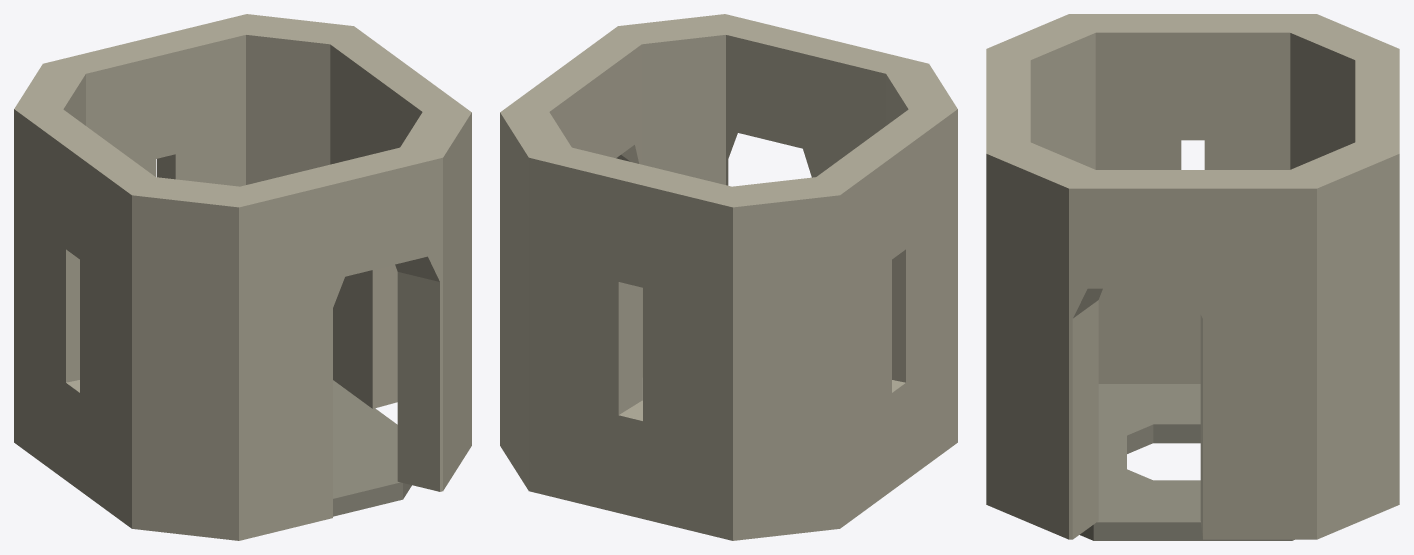
File: corner_walk_turret.glb
3 views of the same model, side by side, from view 1: azimuth 30°, elevation 25°; view 2: azimuth 150°, elevation 25°; view 3: azimuth 270°, elevation 25° (orthographic). The views are drawn at different scales.
Parts seen in each view (by area): view 1: Corner walk turret; view 2: Corner walk turret; view 3: Corner walk turret.
Part boxes in pixels (bbox=[...]): Corner walk turret: bbox=[14, 14, 471, 540]; Corner walk turret: bbox=[500, 14, 957, 540]; Corner walk turret: bbox=[986, 14, 1399, 540].
Size of the model in its own units: 2 by 1.98 by 2.
